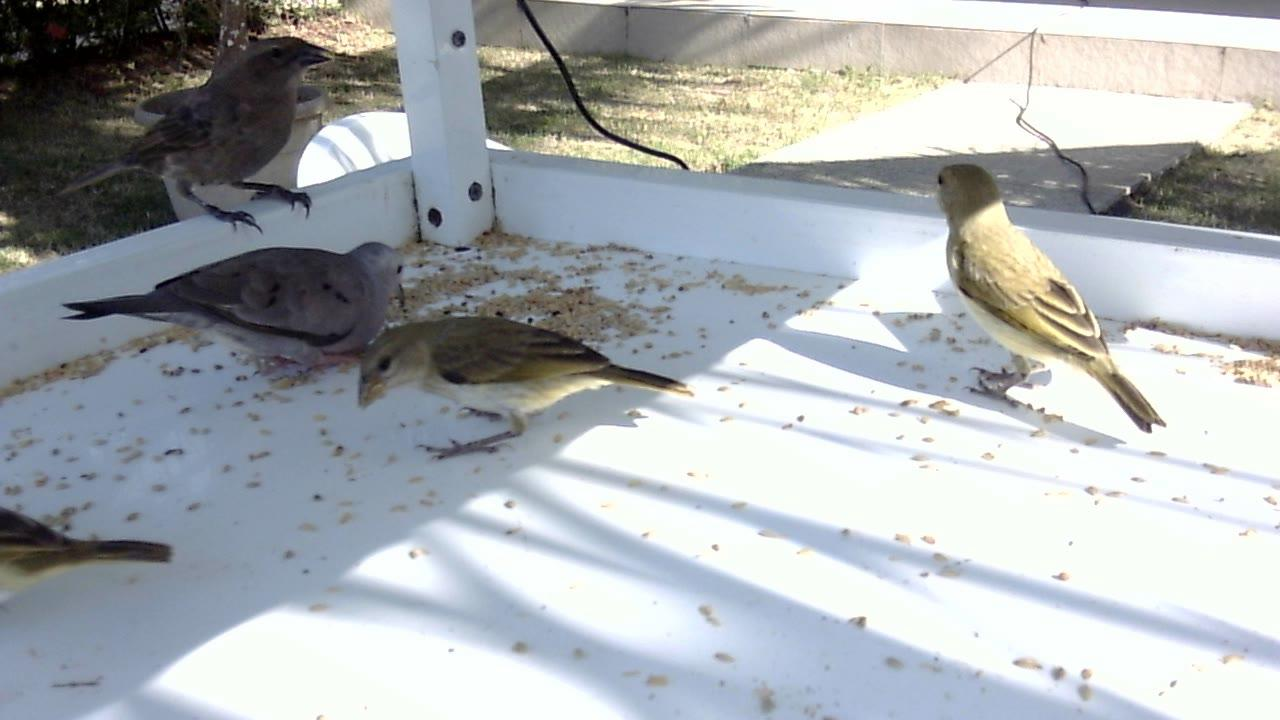canario_do_amazonas: (934, 161, 1171, 439), (353, 314, 700, 467), (1, 497, 180, 599)
chupim: (57, 34, 336, 242)
rolinha: (58, 239, 412, 385)
